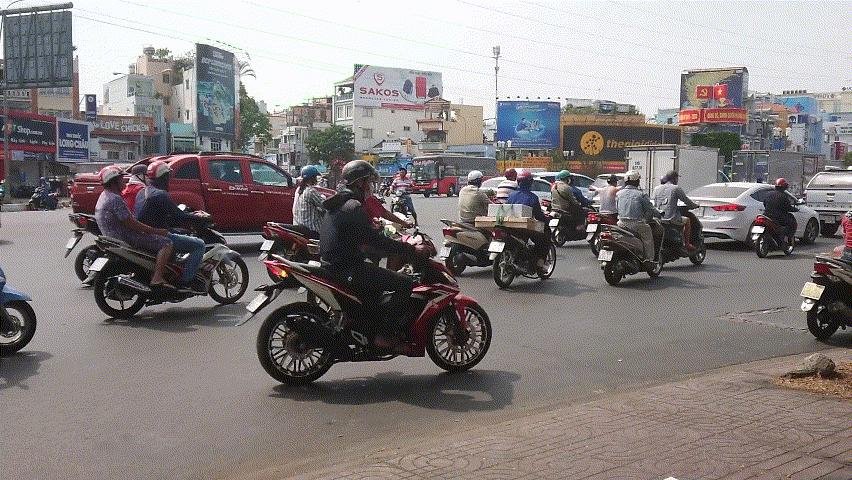driver: (237, 161, 492, 386), (82, 161, 251, 319), (475, 171, 564, 290), (596, 170, 668, 285), (258, 164, 327, 283), (439, 169, 495, 276), (650, 170, 706, 265), (750, 177, 807, 259), (549, 170, 599, 247), (585, 175, 623, 257)
helmet: (341, 160, 382, 202), (99, 165, 128, 194), (146, 161, 174, 191), (300, 164, 322, 186), (516, 171, 534, 190), (467, 169, 484, 189), (624, 170, 641, 188), (664, 170, 681, 185), (559, 169, 571, 185), (775, 178, 788, 192), (505, 167, 518, 181), (606, 174, 619, 187)
